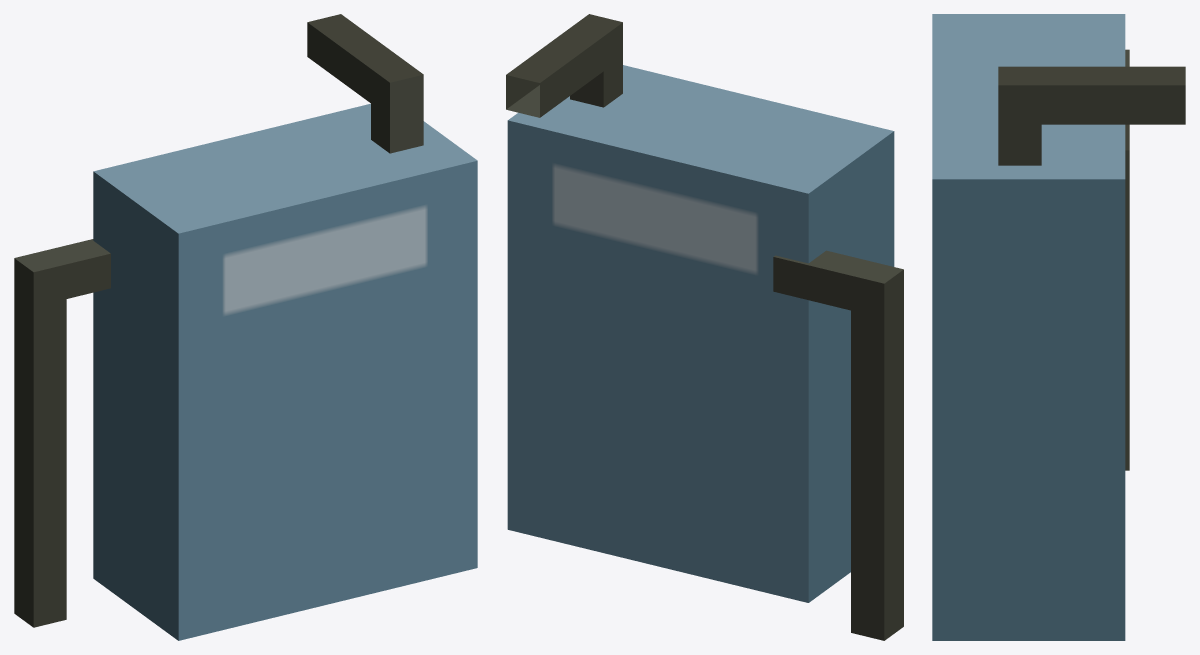
The model's file is SM_PowerBox_01.fbx.
3 renders of one model, left to right at view 1: azimuth 30°, elevation 25°; view 2: azimuth 150°, elevation 25°; view 3: azimuth 270°, elevation 25°, orthographic. The views are drawn at different scales.
Visible parts, largest first — view 1: SM_PowerBox_01; view 2: SM_PowerBox_01; view 3: SM_PowerBox_01.
Part boxes in pixels (left/top/right/bottom): SM_PowerBox_01: left=14, top=14, right=477, bottom=640; SM_PowerBox_01: left=506, top=14, right=903, bottom=640; SM_PowerBox_01: left=932, top=14, right=1185, bottom=640.
Size of the model in its own units: 1.22 by 1.54 by 0.6297.
